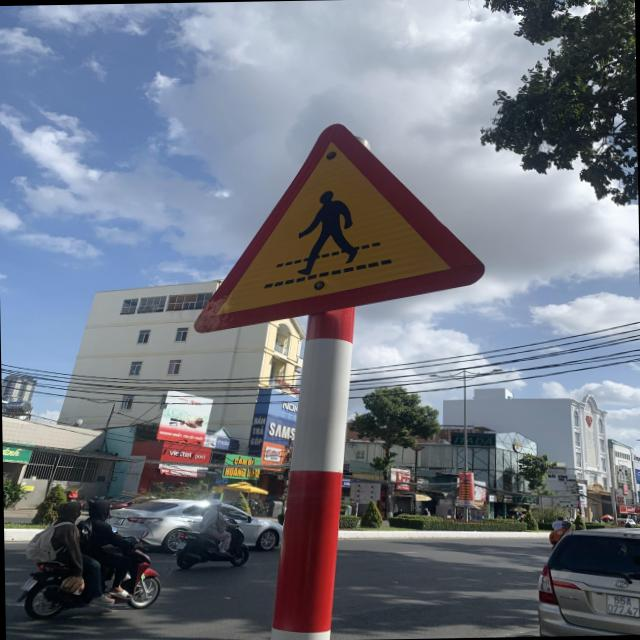Duong_Nguoi_Di_Bo_Sang_Ngang: (184, 119, 490, 334)
